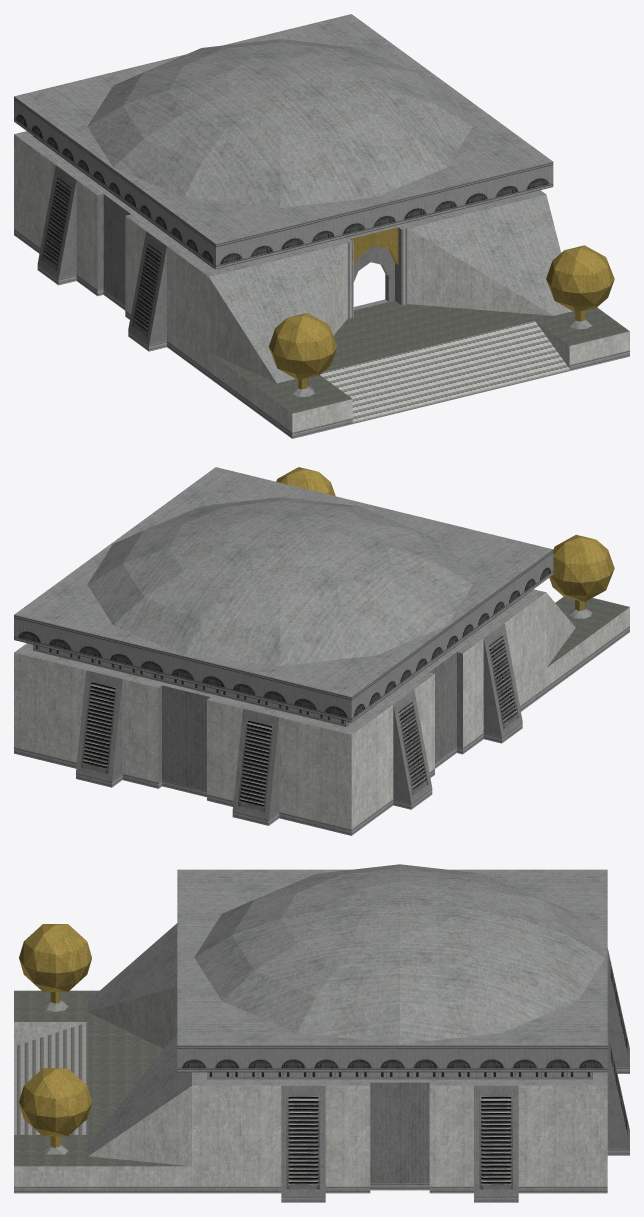
File: mun_corl_guild_commerce_s01_r0_exterior_mesh_corl_guildcommerce_l1.fbx
3 renders of one model, top to bottom at view 1: azimuth 30°, elevation 25°; view 2: azimuth 150°, elevation 25°; view 3: azimuth 270°, elevation 25°, orthographic. The views are drawn at different scales.
Visible parts, largest first — view 1: mesh_node; view 2: mesh_node; view 3: mesh_node.
Boxes of the visible parts, bbox=[...] form: mesh_node: bbox=[14, 14, 629, 438]; mesh_node: bbox=[14, 467, 629, 835]; mesh_node: bbox=[14, 864, 629, 1202].
Bounding box in the file's own units: 38.75 × 18.75 × 51.88.
